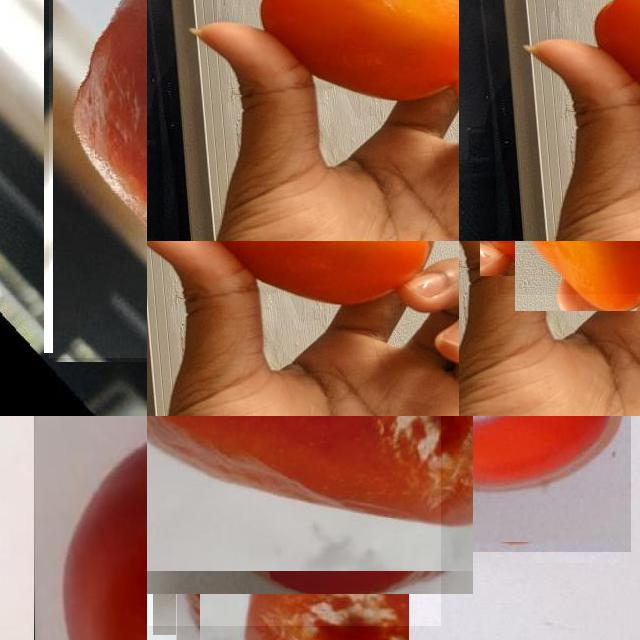0: (33, 416, 147, 640)
Fresh Tomato: (409, 416, 631, 552), (497, 241, 640, 293)
Rotten Tomato: (147, 416, 441, 626), (48, 0, 147, 357)
